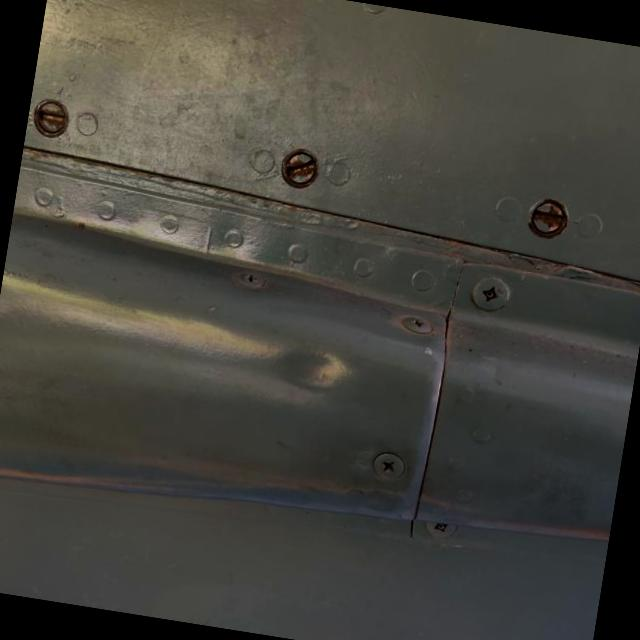dent: (246, 322, 367, 421)
